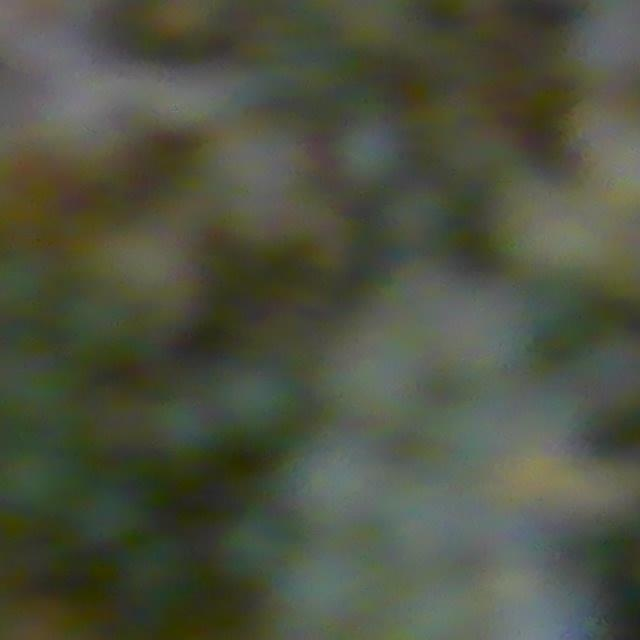SeaGrape: (386, 489, 464, 585), (330, 337, 415, 421), (212, 360, 301, 440), (460, 503, 545, 577), (297, 436, 386, 506), (508, 381, 582, 459), (217, 506, 292, 582), (286, 562, 367, 632), (333, 115, 405, 188), (71, 478, 145, 549), (383, 184, 458, 254), (442, 400, 509, 473), (508, 580, 589, 640), (394, 270, 446, 318)
